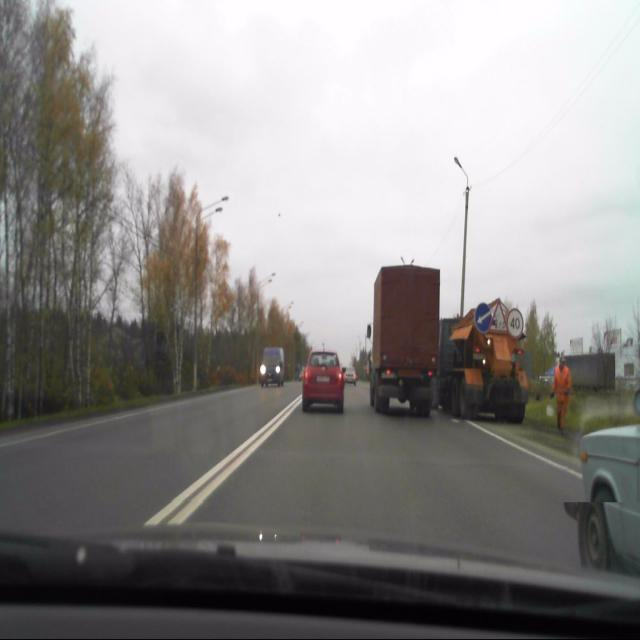road sign: (488, 301, 506, 335)
